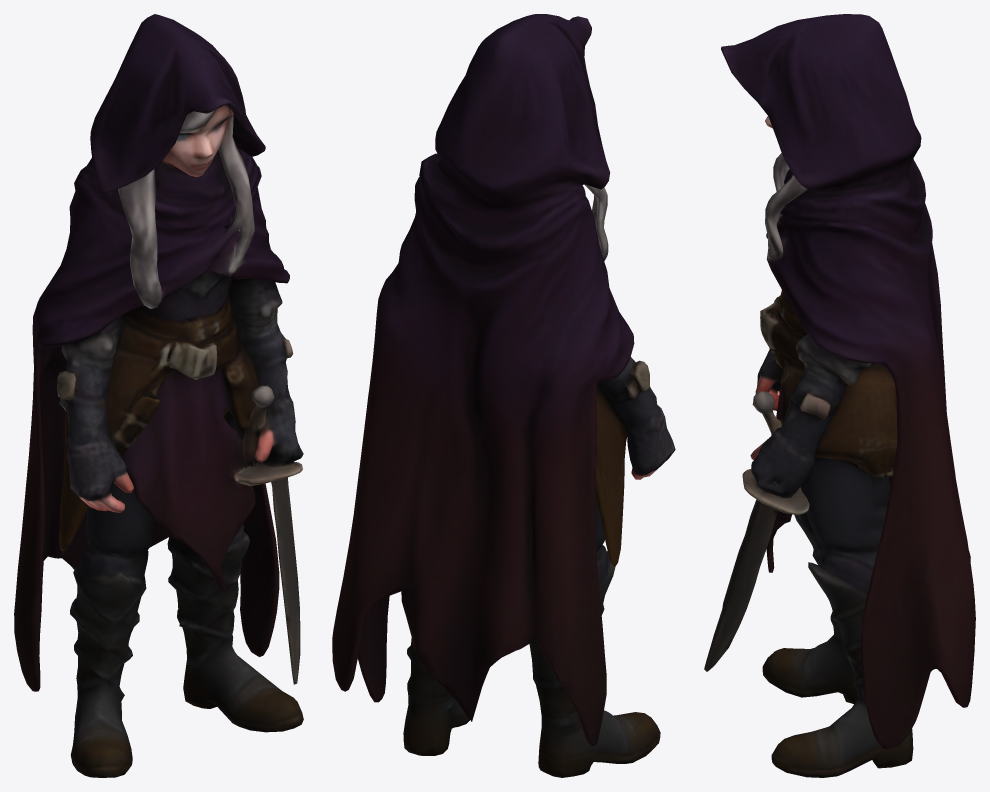
Rendered from saphira2.glb.
3 renders of one model, left to right at view 1: azimuth 30°, elevation 25°; view 2: azimuth 150°, elevation 25°; view 3: azimuth 270°, elevation 25°, orthographic.
Visible parts, largest first — view 1: world; view 2: world; view 3: world.
Part boxes in pixels (bbox=[...]): world: bbox=[14, 14, 303, 777]; world: bbox=[332, 14, 675, 777]; world: bbox=[704, 14, 975, 777].
Bounding box in the file's own units: 0.369 × 1 × 0.3477.
Materials: 1 (1 with a texture image).
